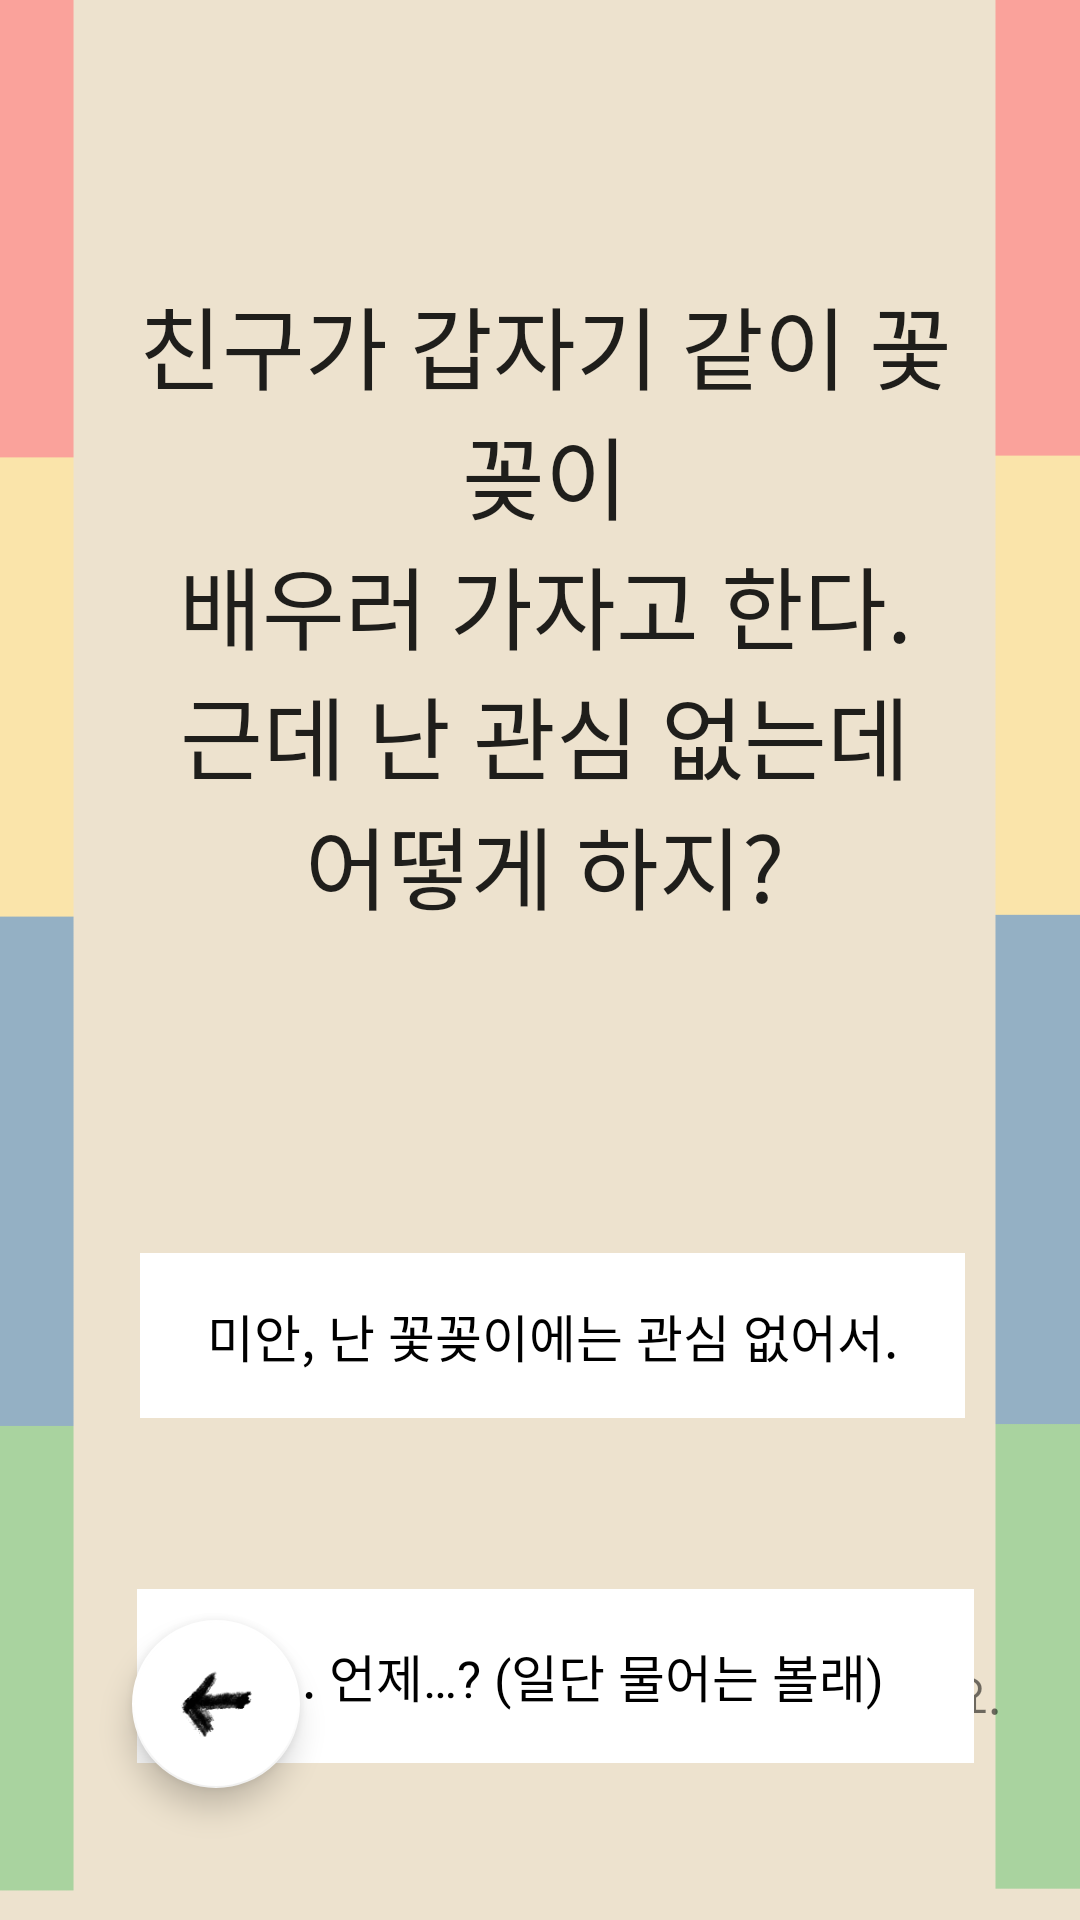

Icons on this 1080px×1920px Android screen, each with the point to tap as [x,y]:
back: [216,1704]
